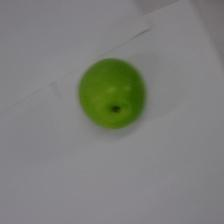green: (75, 54, 151, 135)
